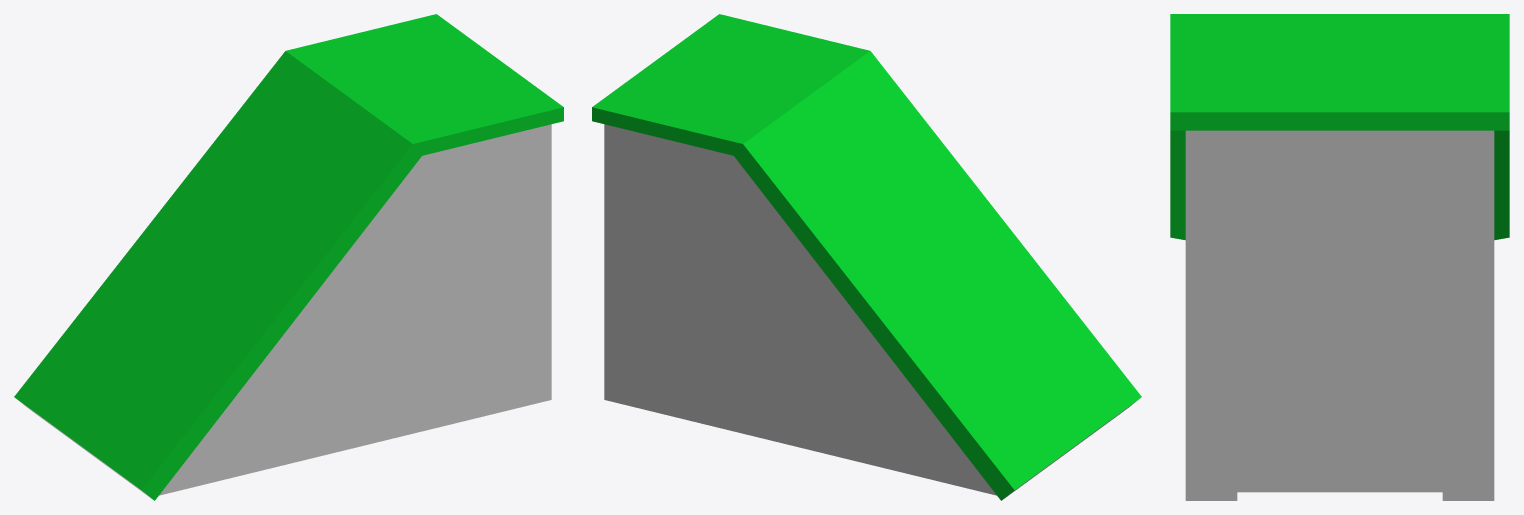
The model's file is rooftop_door.fbx.
3 renders of one model, left to right at view 1: azimuth 30°, elevation 25°; view 2: azimuth 150°, elevation 25°; view 3: azimuth 270°, elevation 25°, orthographic. The views are drawn at different scales.
Visible parts, largest first — view 1: Cube; view 2: Cube; view 3: Cube.
Part boxes in pixels (left/top/right/bottom): Cube: left=14, top=14, right=563, bottom=500; Cube: left=592, top=14, right=1141, bottom=500; Cube: left=1170, top=14, right=1509, bottom=500.
Bounding box in the file's own units: 316 × 211 × 165.
